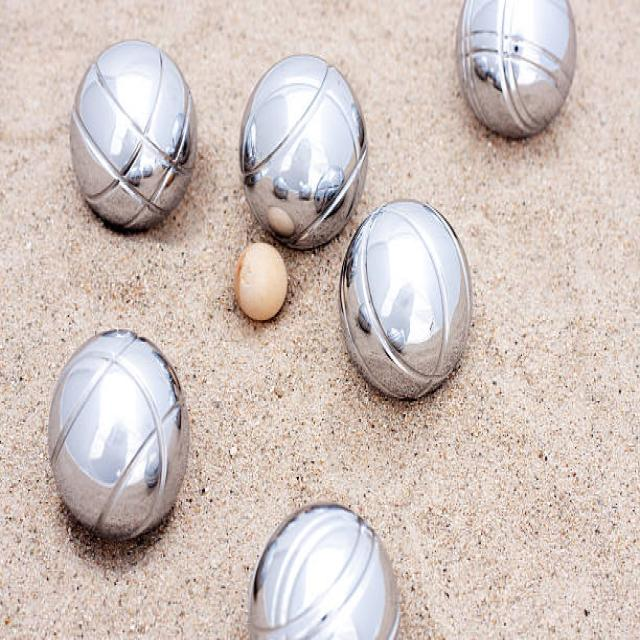hatball: (228, 235, 293, 326)
petanque: (38, 319, 196, 550), (329, 195, 478, 413), (238, 51, 376, 265), (69, 37, 199, 245), (225, 490, 406, 638), (452, 0, 588, 152)
